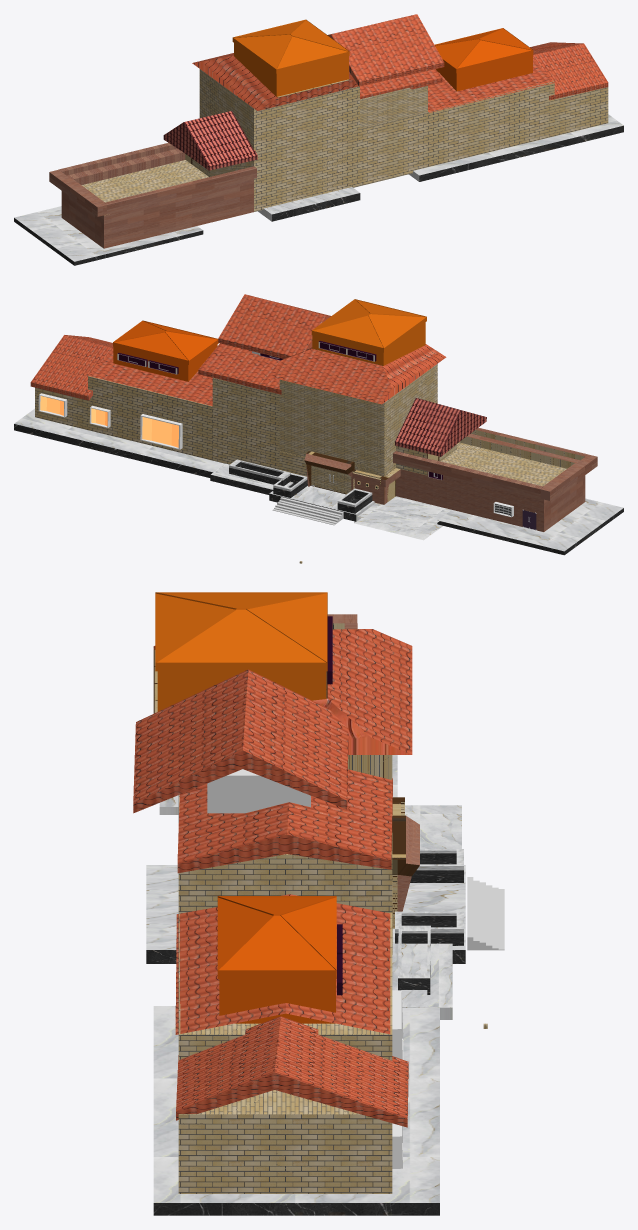
The model's file is suntitled.fbx.
The picture shows the model from 3 angles, top to bottom: view 1: azimuth 30°, elevation 25°; view 2: azimuth 150°, elevation 25°; view 3: azimuth 270°, elevation 25°; orthographic projection. The views are drawn at different scales.
Parts seen in each view (by area): view 1: Cube, Cube.003, Plane.007, Cube.005, Plane.013, Plane.008, Plane.004, Plane.012, Plane.005, Plane.009, Plane.006; view 2: Cube, Cube.003, Plane.012, Plane.007, Plane.013, Cube.005, Plane.008, Plane.004, Plane.005, Plane.014, Plane.006, Plane.002 (+7 smaller); view 3: Cube, Plane.012, Plane.007, Cube.003, Plane.004, Plane.006, Cube.005, Plane.005, Plane.009, Cube.009, Plane.011, Plane.014 (+3 smaller).
Boxes of the visible parts, x1,y1,x2,y2 form: Cube: (49,53,608,248); Cube.003: (232,19,349,96); Plane.007: (327,14,444,86); Cube.005: (434,28,533,91); Plane.013: (14,206,203,265); Plane.008: (163,111,257,170); Plane.004: (530,42,608,100); Plane.012: (409,114,623,181); Plane.005: (428,58,554,112); Plane.009: (258,187,360,221); Plane.006: (360,69,442,99); Cube: (35,344,597,563); Cube.003: (311,299,426,365); Plane.012: (14,408,293,494); Plane.007: (218,294,330,358); Plane.013: (437,498,623,555); Cube.005: (113,320,218,381); Plane.008: (395,398,486,456); Plane.004: (30,335,113,400); Plane.005: (89,348,212,406); Plane.014: (354,496,451,540); Plane.006: (198,343,281,394); Plane.002: (140,414,182,449); Cube: (153,614,487,1193); Plane.012: (153,939,452,1215); Plane.007: (133,669,348,813); Cube.003: (155,592,327,711); Plane.004: (176,1016,408,1127); Plane.006: (177,769,392,873); Cube.005: (217,896,336,1023); Plane.005: (175,894,390,1034); Plane.009: (146,865,465,963); Cube.009: (207,769,310,813); Plane.011: (467,877,504,950); Plane.014: (405,805,461,848).
Size of the model in its own units: 63915 by 23318 by 19046.
